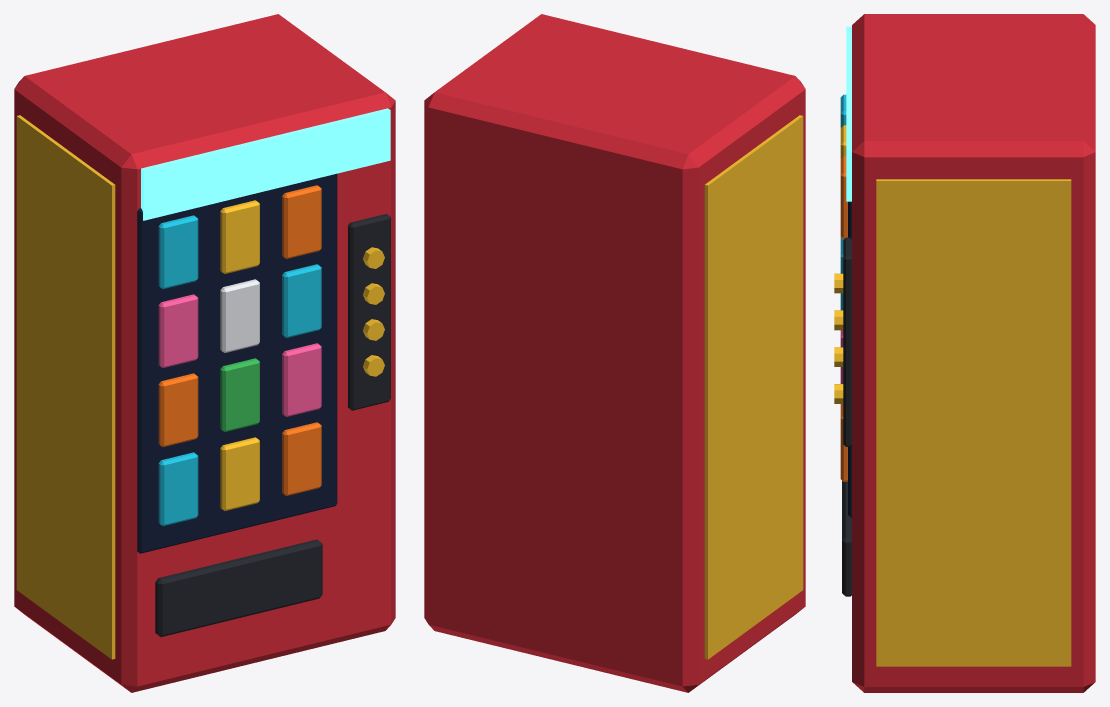
The model's file is VendingMachine.fbx.
The picture shows the model from 3 angles, left to right: view 1: azimuth 30°, elevation 25°; view 2: azimuth 150°, elevation 25°; view 3: azimuth 270°, elevation 25°; orthographic projection. The views are drawn at different scales.
Parts seen in each view (by area): view 1: VendingMachine, Neon_Cyan; view 2: VendingMachine; view 3: VendingMachine, Neon_Cyan.
Boxes of the visible parts, x1=… form: VendingMachine: x1=14, y1=14, x2=395, y2=692; Neon_Cyan: x1=141, y1=108, x2=390, y2=220; VendingMachine: x1=424, y1=14, x2=805, y2=692; VendingMachine: x1=834, y1=14, x2=1095, y2=692; Neon_Cyan: x1=846, y1=26, x2=851, y2=201.
Size of the model in its own units: 4.1 by 7.5 by 3.22.
Materials: 2 (1 with a texture image).
